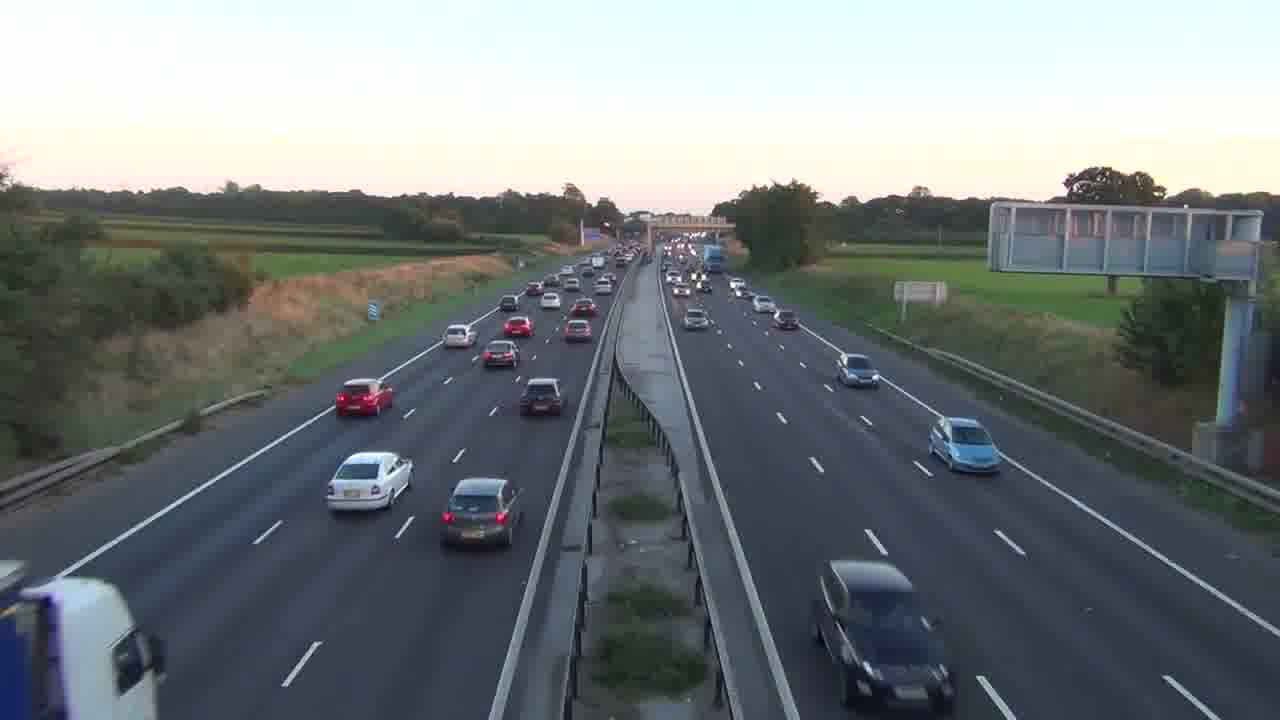car: (439, 477, 525, 550), (325, 450, 414, 513), (927, 415, 1001, 474), (334, 377, 394, 418), (520, 377, 564, 417), (833, 352, 880, 389), (482, 339, 518, 370), (563, 317, 594, 343), (683, 309, 709, 331)
truck: (0, 573, 166, 718), (811, 558, 957, 714)
